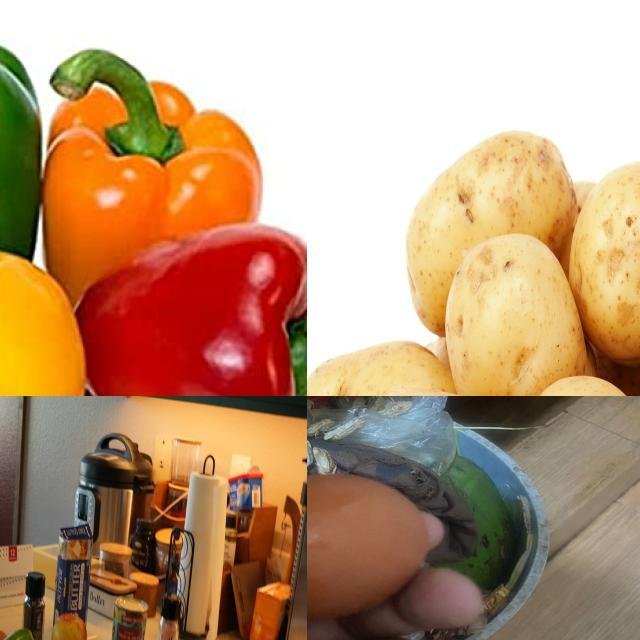bell_pepper: (41, 44, 263, 302), (62, 218, 308, 397), (22, 571, 47, 640), (1, 631, 40, 640)
egg: (308, 465, 431, 624), (1, 620, 8, 640)
potato: (406, 133, 580, 334), (448, 232, 583, 397), (570, 163, 640, 359), (308, 342, 457, 397)
